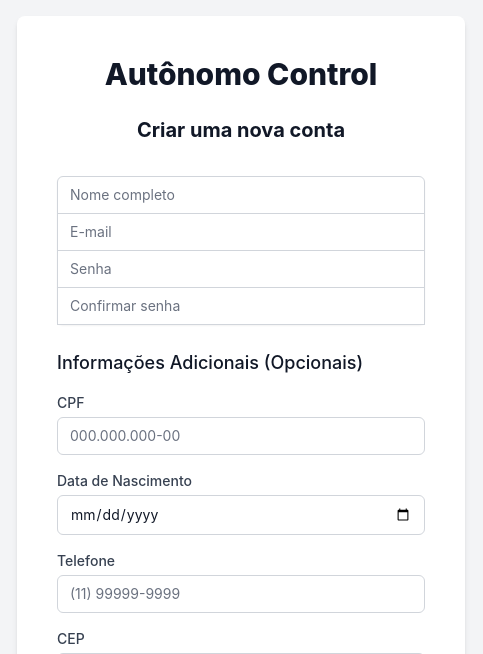
Scenario: RegisterForm - Formulário Expandido › Validação de Telefone › deve formatar telefone automaticamente
The width and height of the screenshot is (483, 654).
Type "11987654321" into the field labelled "Telefone" at (241, 594), box [57, 575, 425, 613]
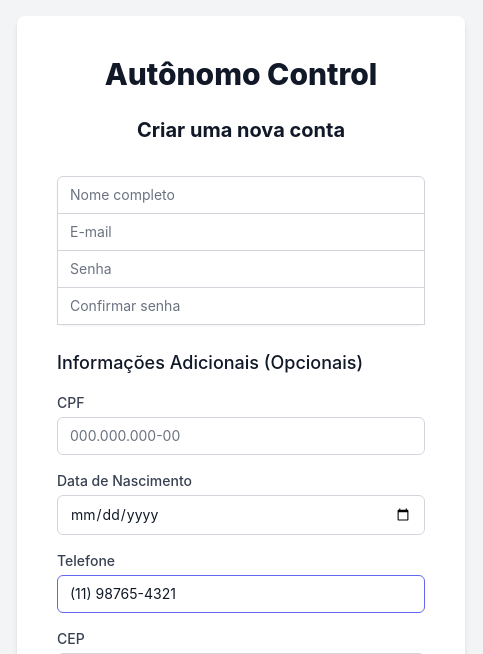
Check: the field labelled "Telefone" holds "(11) 98765-4321", box [57, 575, 425, 613]
